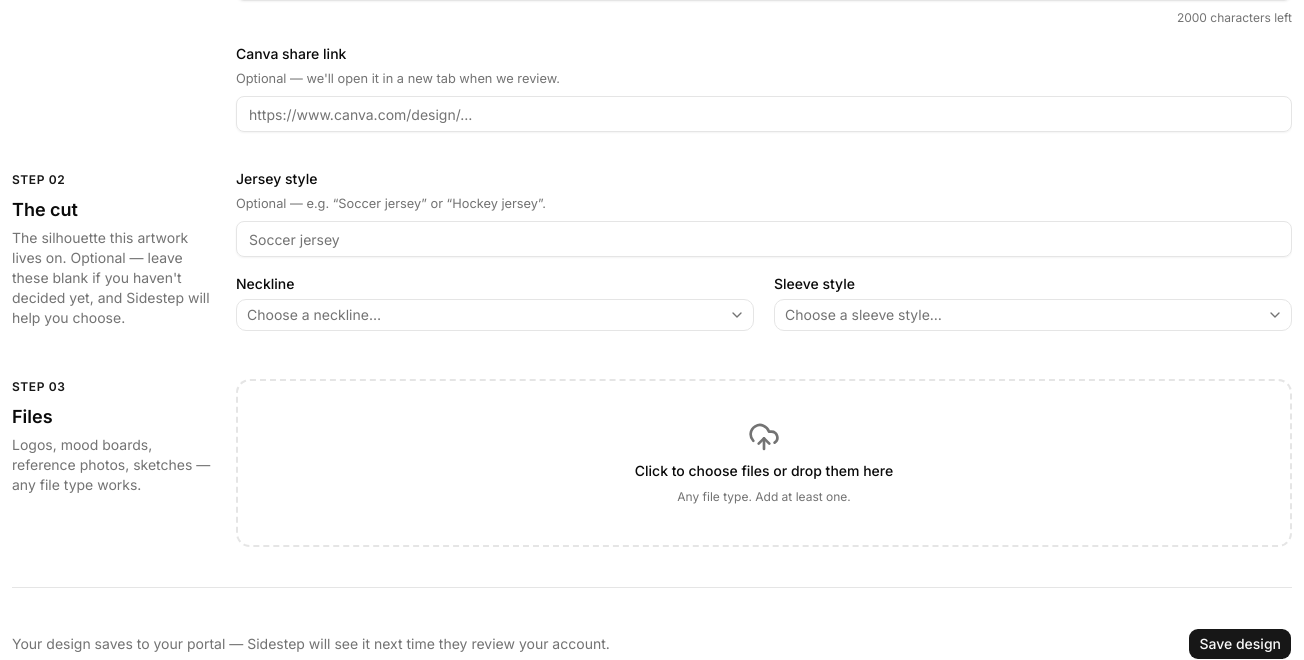
DesignForm › does not block submission on blank specs (they are optional)
The image size is (1304, 660).
(page scrolled)
Click the button "Save design".
click(1240, 644)  # box x1=1188 y1=628 x2=1292 y2=659
(page scrolled)
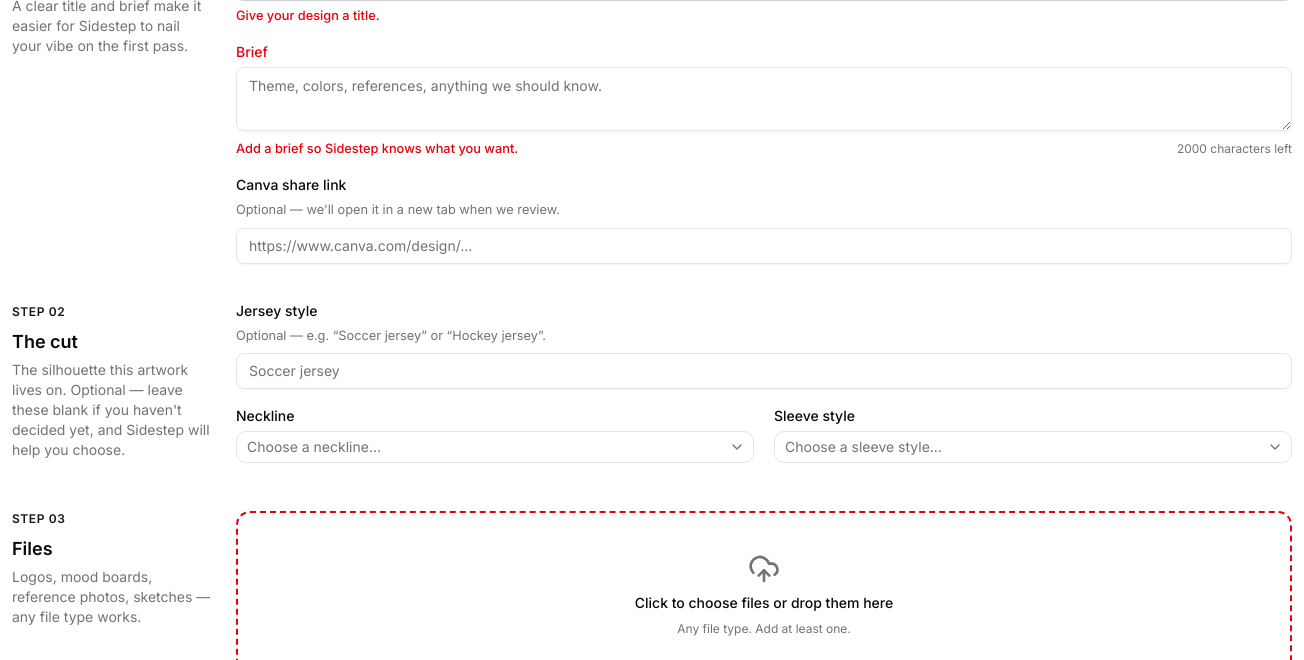
Expected: the text "Give your design a title." is shown, x1=236 y1=8 x2=380 y2=23
